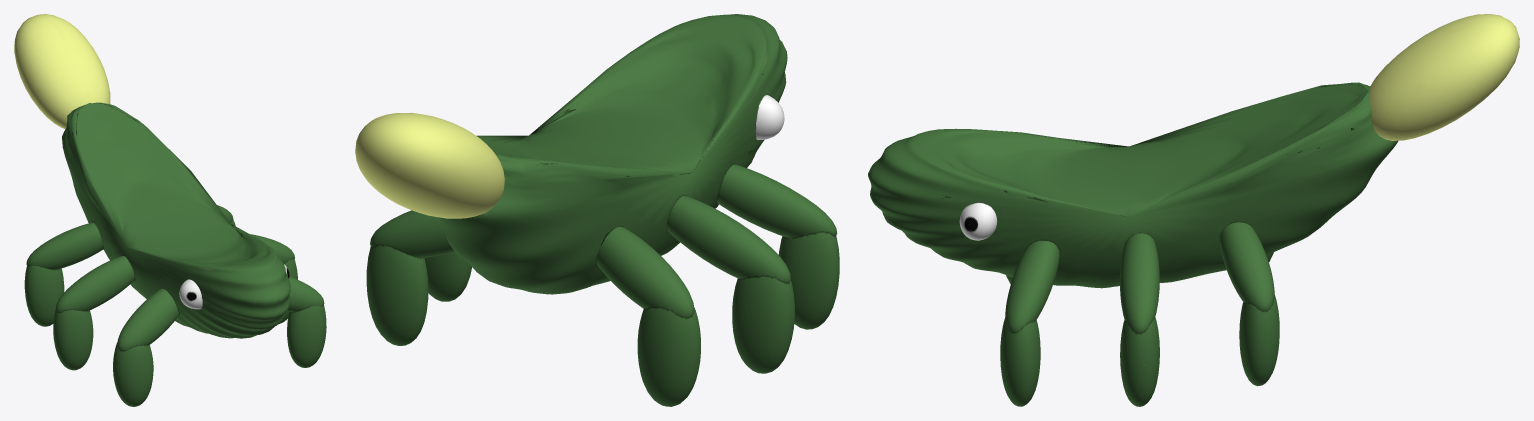
The model's file is Lavicucon.fbx.
The picture shows the model from 3 angles, left to right: view 1: azimuth 30°, elevation 25°; view 2: azimuth 150°, elevation 25°; view 3: azimuth 270°, elevation 25°; orthographic projection. The views are drawn at different scales.
Visible parts, largest first — view 1: Front legs; view 2: Front legs; view 3: Front legs.
Part boxes in pixels (left/top/right/bottom): Front legs: left=14, top=14, right=326, bottom=406; Front legs: left=355, top=14, right=839, bottom=406; Front legs: left=868, top=14, right=1519, bottom=406.
Bounding box in the file's own units: 8.9 × 8.58 × 15.46.
Materials: 1 (1 with a texture image).
